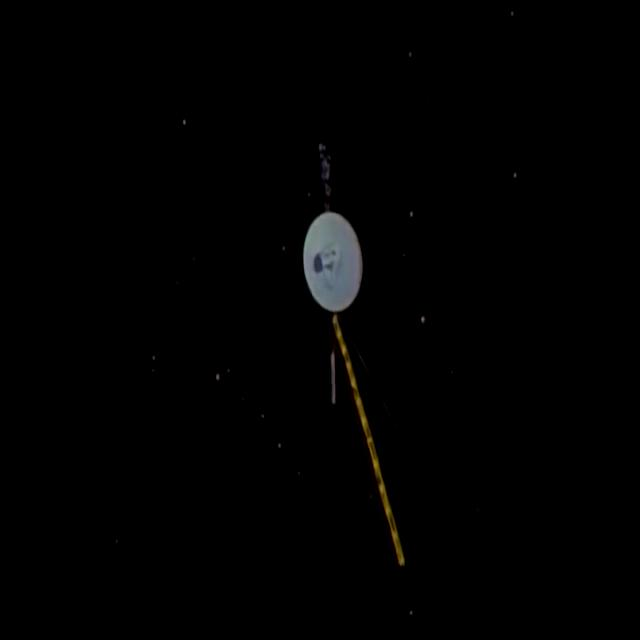satellite: (287, 94, 417, 596)
